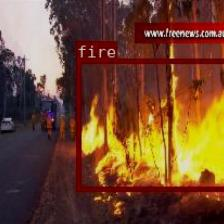fire: (75, 58, 224, 189)
